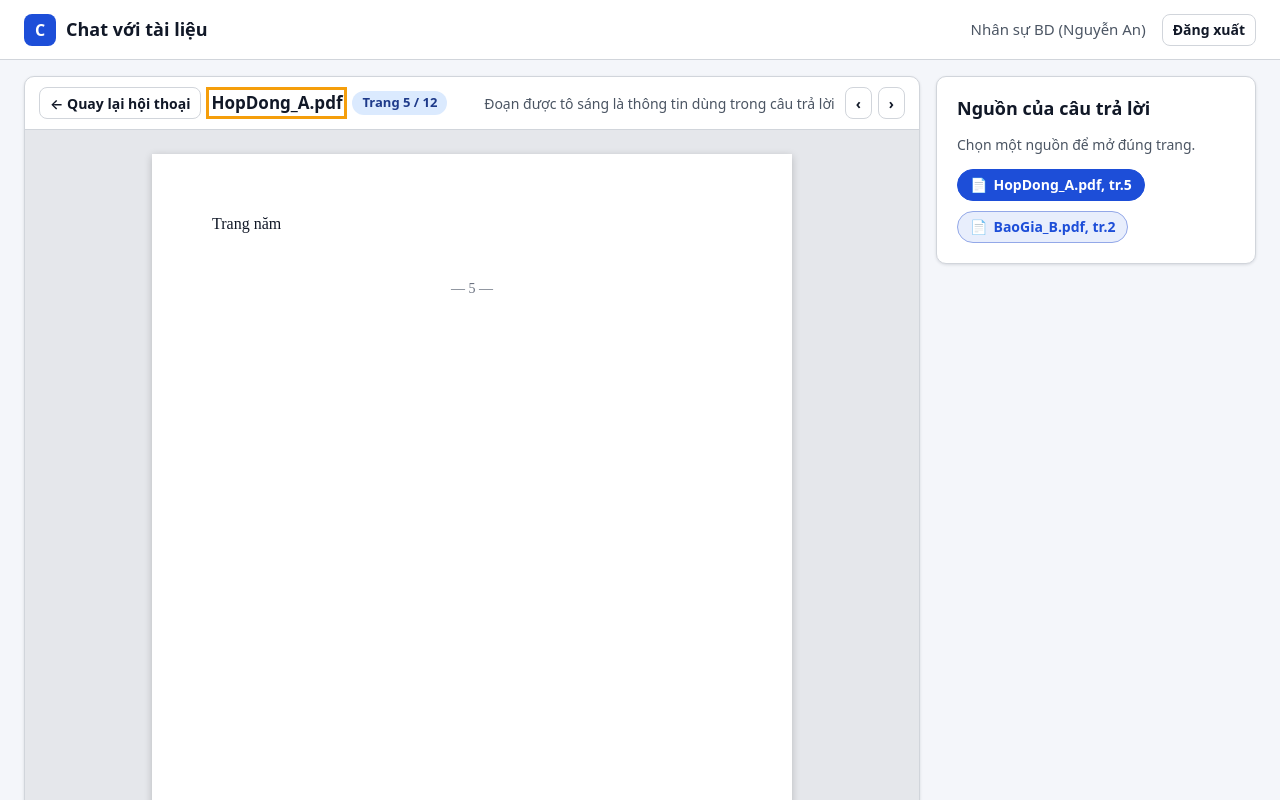
it: S-03 Trình xem nguồn › chuyển trang không tải lại toàn bộ ứng dụng
Expected: the text "Trang năm" is shown, x1=212 y1=215 x2=281 y2=232
What coordinates should you click on to do the following:
click the button named "Trang sau"
I would click on:
 (891, 103)
Its box is x1=878 y1=87 x2=905 y2=119.
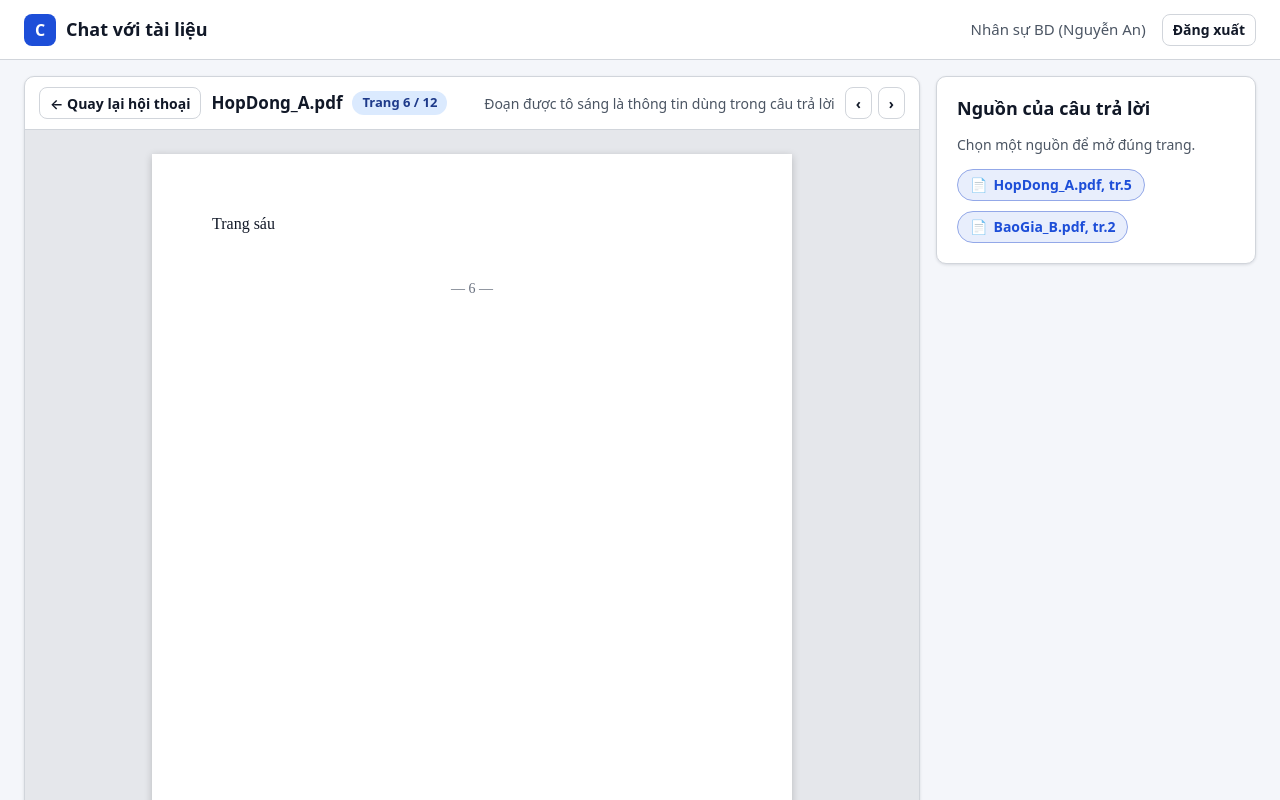
Result: the text "Trang sáu" is shown at x1=212 y1=215 x2=275 y2=232
Result: the text "Trang 6 / 12" is shown at x1=352 y1=91 x2=448 y2=115
What coordinates should you click on to do the following:
click the button named "Trang trước"
I would click on:
 (858, 103)
Its box is x1=845 y1=87 x2=872 y2=119.
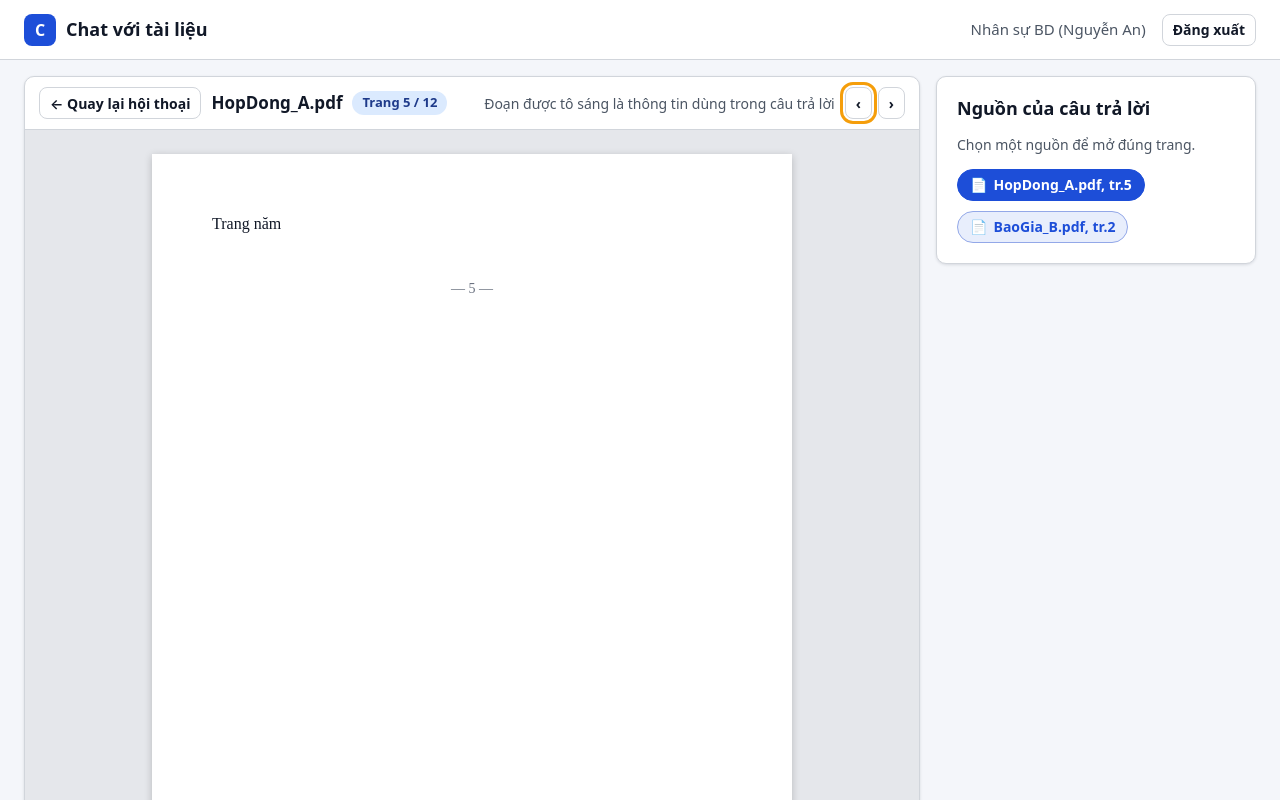
Result: the text "Trang 5 / 12" is shown at x1=352 y1=91 x2=448 y2=115
